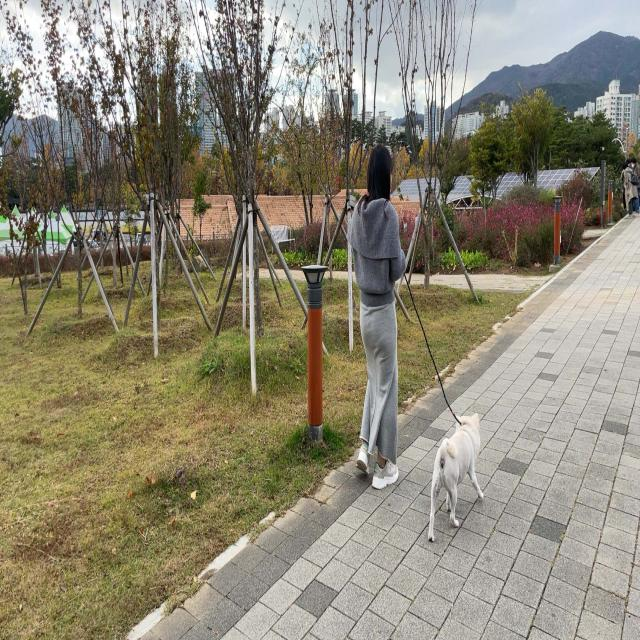Leashed_Dog: (388, 260, 485, 545)
